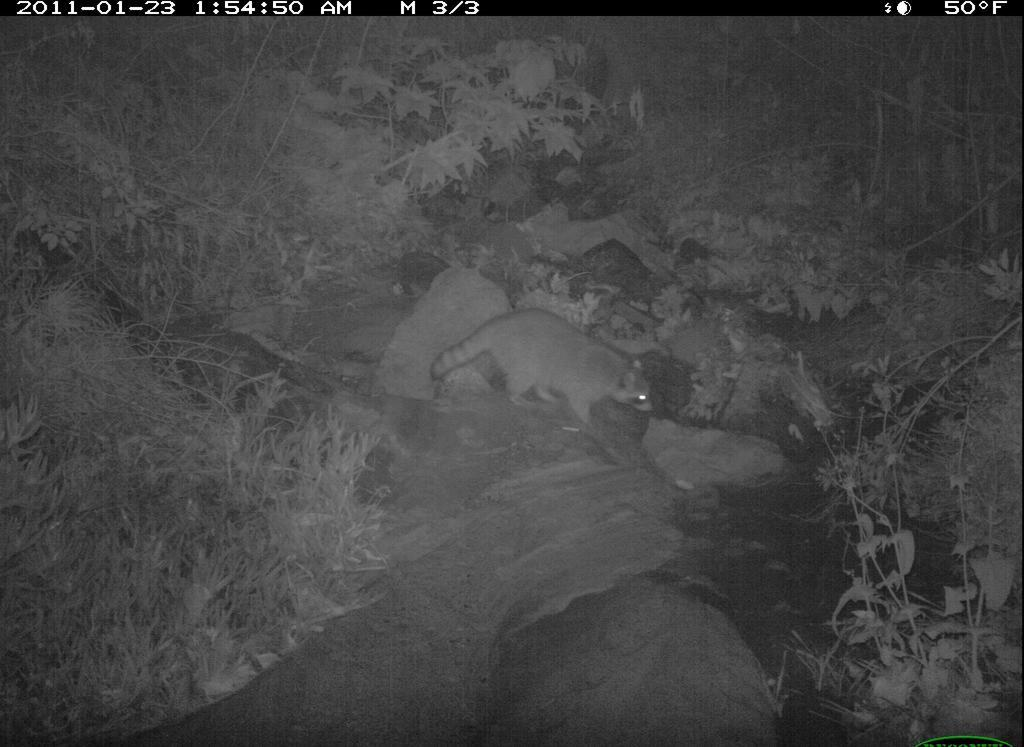raccoon: (422, 299, 667, 444)
